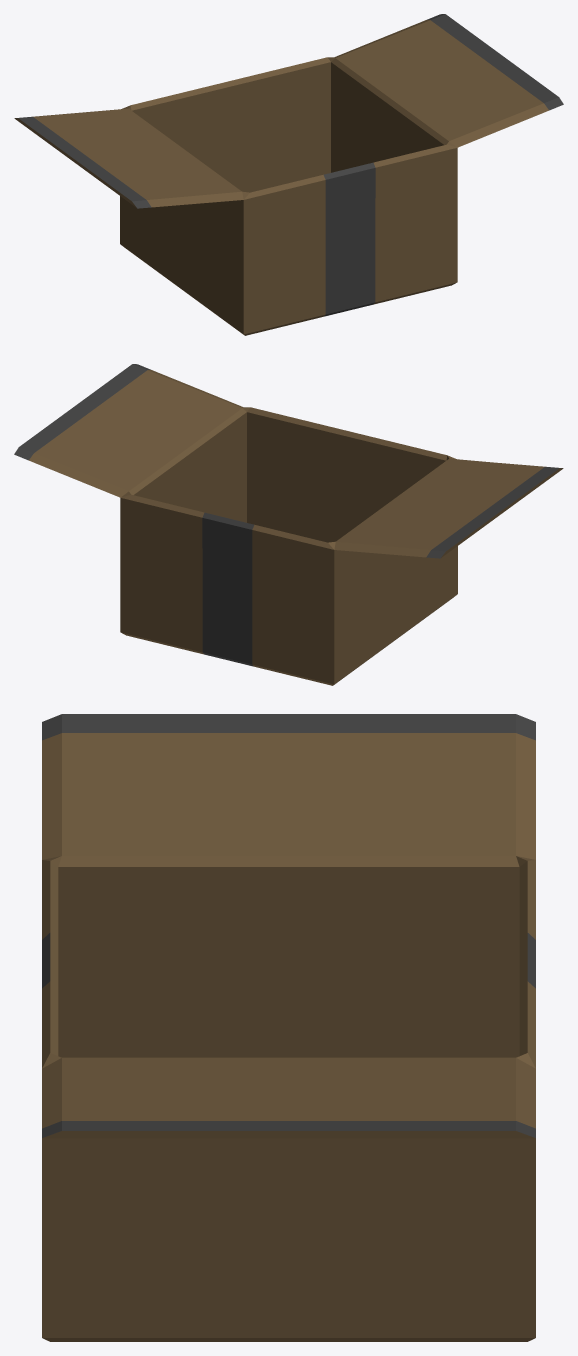
The model's file is Kutu.fbx.
The picture shows the model from 3 angles, top to bottom: view 1: azimuth 30°, elevation 25°; view 2: azimuth 150°, elevation 25°; view 3: azimuth 270°, elevation 25°; orthographic projection. The views are drawn at different scales.
Parts seen in each view (by area): view 1: Cube.002; view 2: Cube.002; view 3: Cube.002.
Boxes of the visible parts, <box> form: Cube.002: <box>14,14,563,335</box>; Cube.002: <box>14,364,563,685</box>; Cube.002: <box>42,714,535,1341</box>.
Bounding box in the file's own units: 399 × 142 × 200.
